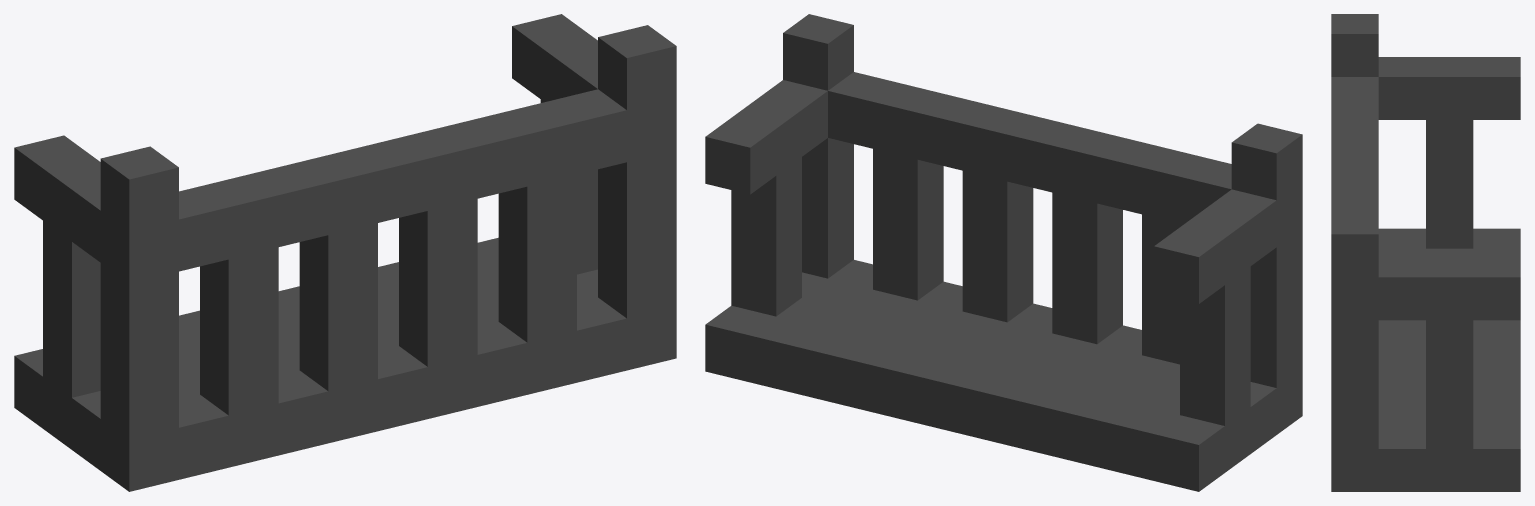
The model's file is palazzo0.glb.
3 renders of one model, left to right at view 1: azimuth 30°, elevation 25°; view 2: azimuth 150°, elevation 25°; view 3: azimuth 270°, elevation 25°, orthographic. The views are drawn at different scales.
Parts seen in each view (by area): view 1: Ringhiera.Chiusa; view 2: Ringhiera.Chiusa; view 3: Ringhiera.Chiusa.
Boxes of the visible parts, x1,y1,x2,y2 form: Ringhiera.Chiusa: (14, 14, 676, 491); Ringhiera.Chiusa: (705, 14, 1302, 491); Ringhiera.Chiusa: (1331, 14, 1520, 491).
Size of the model in its own units: 11 by 6 by 4.
Materials: 1 (1 with a texture image).
